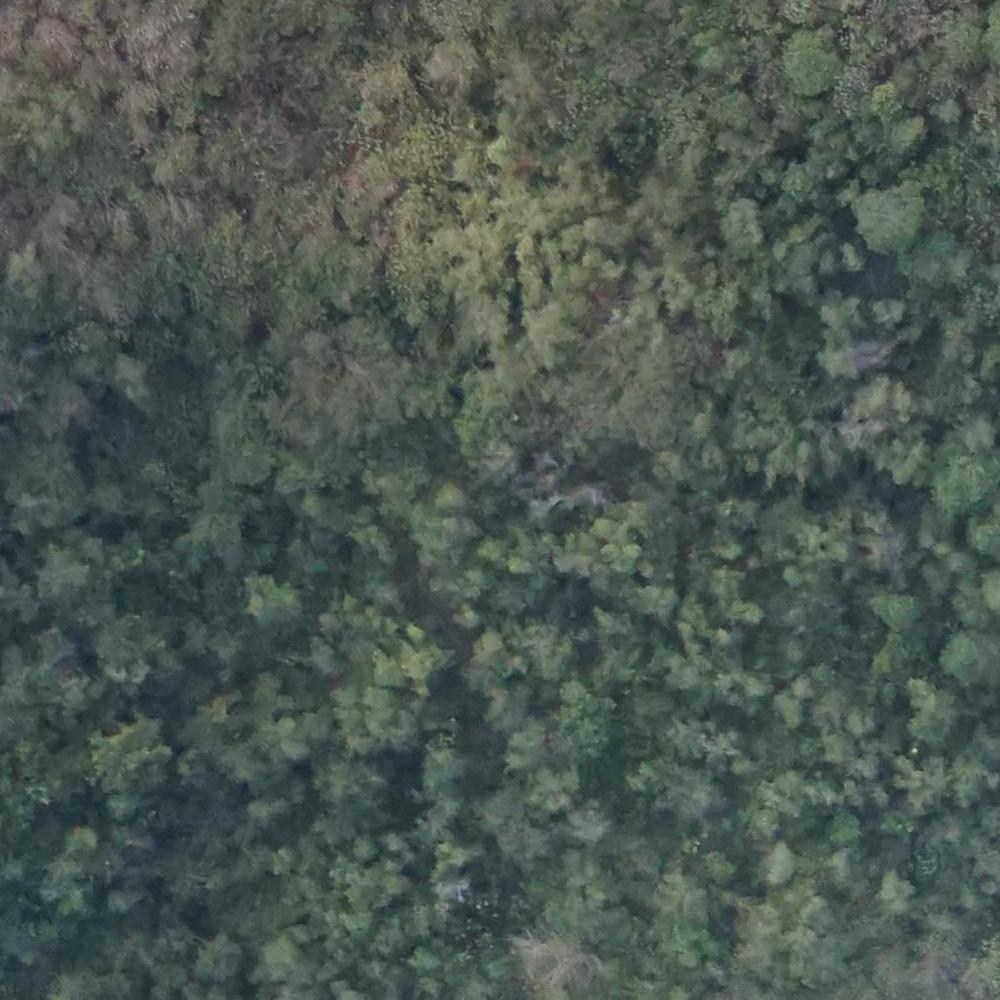tree: (854, 187, 929, 266), (93, 613, 171, 683), (93, 730, 169, 801), (928, 445, 1000, 515), (42, 548, 107, 611), (389, 633, 448, 693), (592, 510, 640, 583), (332, 163, 387, 224), (1, 244, 56, 304), (782, 33, 837, 90), (464, 421, 518, 478), (935, 634, 998, 682), (528, 769, 589, 818), (635, 174, 686, 232), (414, 489, 473, 539), (149, 130, 199, 188), (425, 40, 472, 99), (193, 932, 247, 983), (246, 577, 302, 624), (115, 73, 164, 124), (582, 208, 628, 258), (822, 296, 865, 348), (70, 46, 110, 100), (30, 15, 74, 63), (572, 805, 620, 848), (524, 302, 564, 352), (508, 726, 554, 766), (722, 198, 761, 241), (940, 27, 982, 65), (424, 746, 459, 790), (873, 870, 905, 917), (720, 94, 754, 129), (266, 938, 298, 974), (765, 841, 796, 876), (664, 275, 695, 310), (875, 79, 906, 113), (244, 793, 280, 822), (106, 358, 139, 388), (737, 600, 768, 631), (777, 694, 803, 730), (674, 665, 704, 695), (877, 299, 903, 328), (349, 837, 376, 862), (486, 136, 511, 163)
